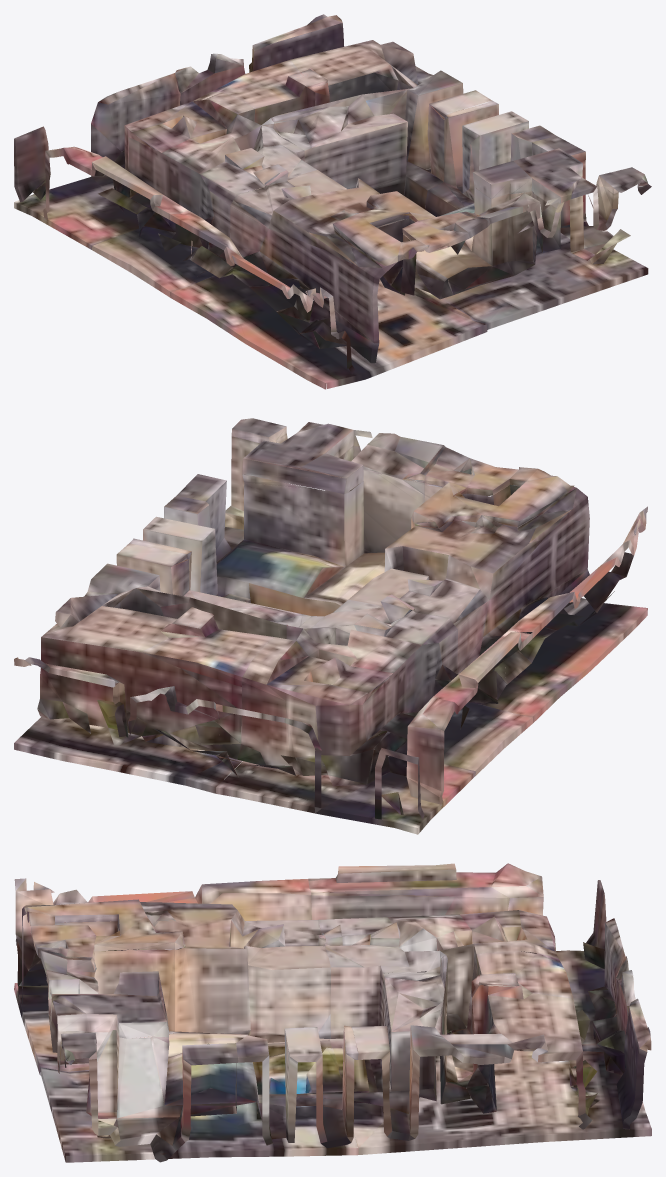
The picture shows the model from 3 angles, top to bottom: view 1: azimuth 30°, elevation 25°; view 2: azimuth 150°, elevation 25°; view 3: azimuth 270°, elevation 25°; orthographic projection. The views are drawn at different scales.
Parts seen in each view (by area): view 1: Mesh_0; view 2: Mesh_0; view 3: Mesh_0.
Boxes of the visible parts, x1,y1,x2,y2 form: Mesh_0: (14,14,651,389); Mesh_0: (14,418,647,834); Mesh_0: (14,863,651,1162).
Bounding box in the file's own units: 134 × 40.64 × 165.
1 material, 1 textured.
